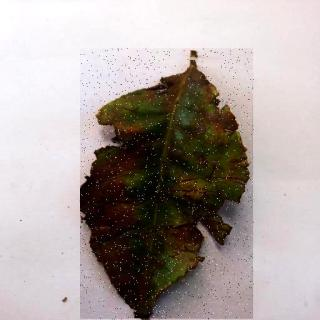Algal Leaf: (82, 50, 256, 320)
